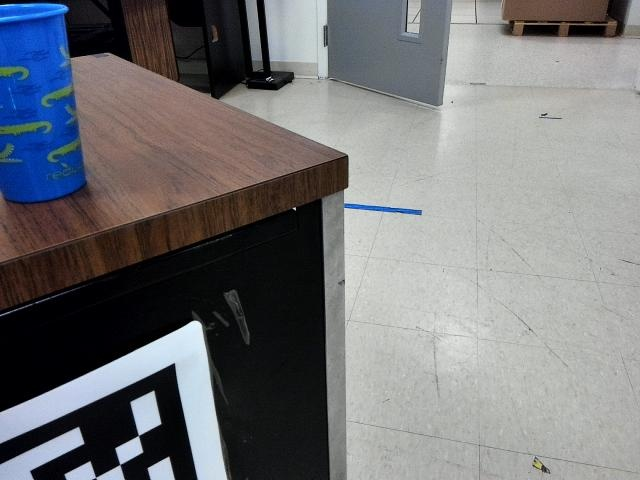water_cup: (1, 1, 98, 208)
